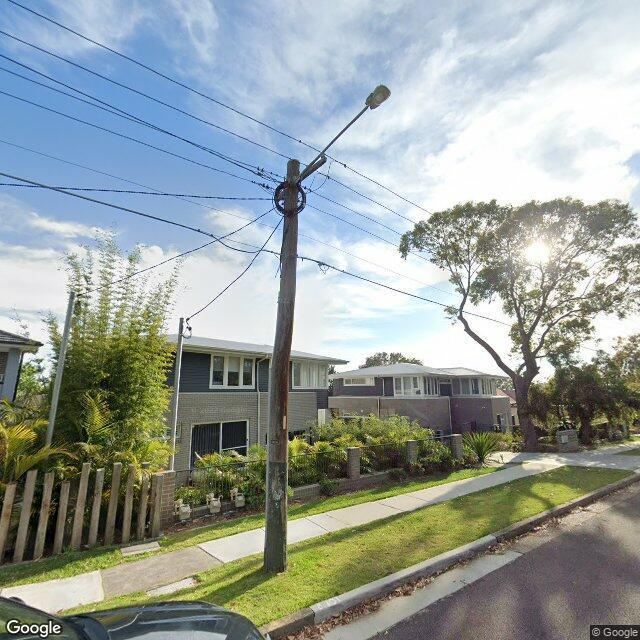crossarm: (274, 156, 328, 203)
steel-pole: (44, 290, 75, 448), (168, 317, 185, 472)
streetlight: (289, 84, 392, 191)
timber-pole: (264, 158, 300, 572)
